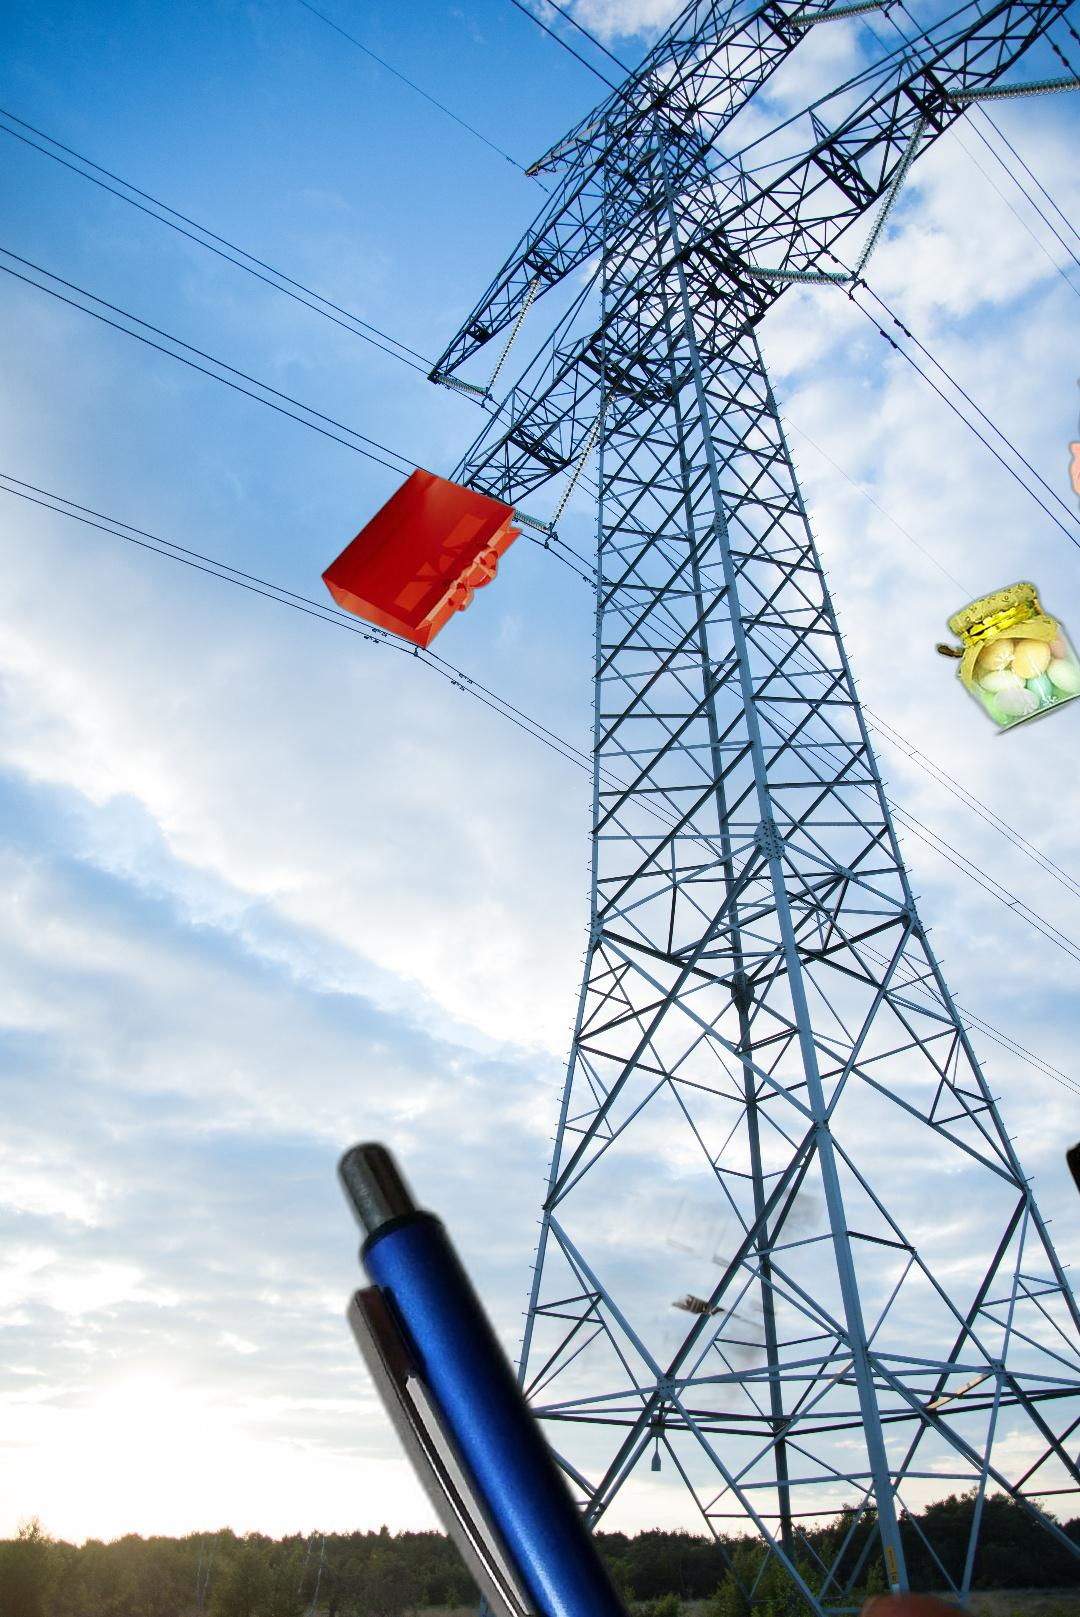glass: (1062, 1121, 1080, 1406)
paper: (486, 1028, 894, 1412)
paper-bag: (319, 465, 526, 652)
penholder: (327, 1127, 1080, 1617), (929, 260, 1080, 958)
